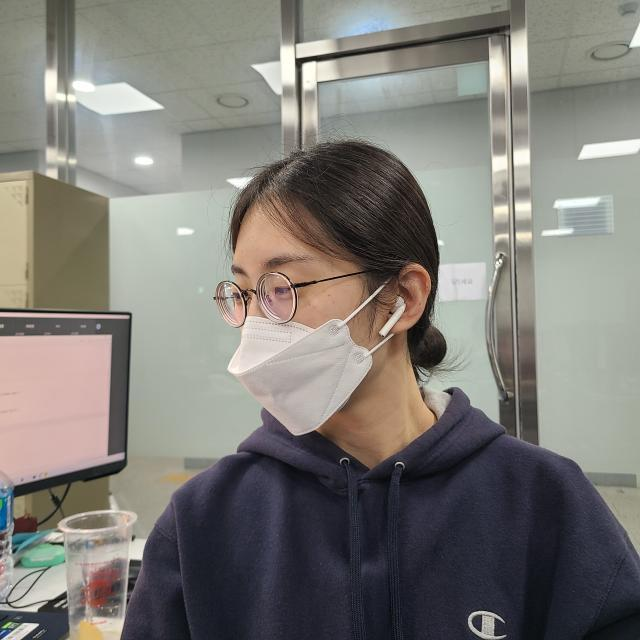earphone: (374, 275, 421, 360)
laptop_computer: (0, 264, 181, 521)
